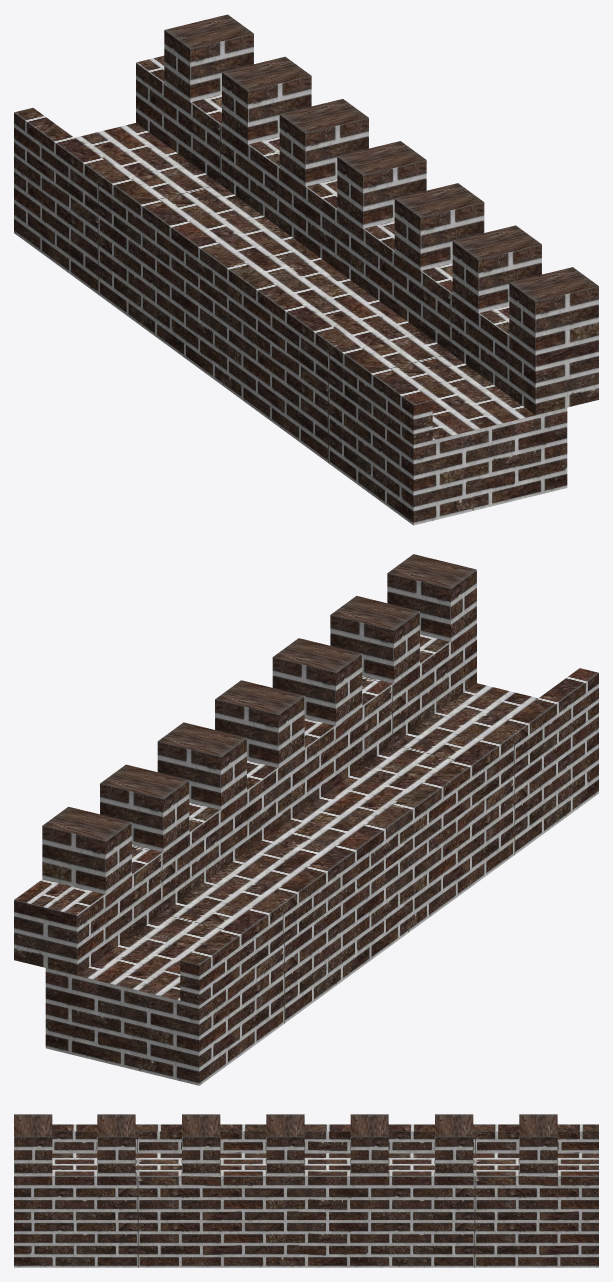
The model's file is WallFortress_door.dae.
The picture shows the model from 3 angles, top to bottom: view 1: azimuth 30°, elevation 25°; view 2: azimuth 150°, elevation 25°; view 3: azimuth 270°, elevation 25°; orthographic projection. The views are drawn at different scales.
Parts seen in each view (by area): view 1: WallFortress_door; view 2: WallFortress_door; view 3: WallFortress_door.
Part boxes in pixels (x1,y1,x2,y2): WallFortress_door: (14, 14, 598, 525); WallFortress_door: (14, 554, 598, 1085); WallFortress_door: (14, 1114, 598, 1267).
Bounding box in the file's own units: 19.3 × 72 × 19.3.
